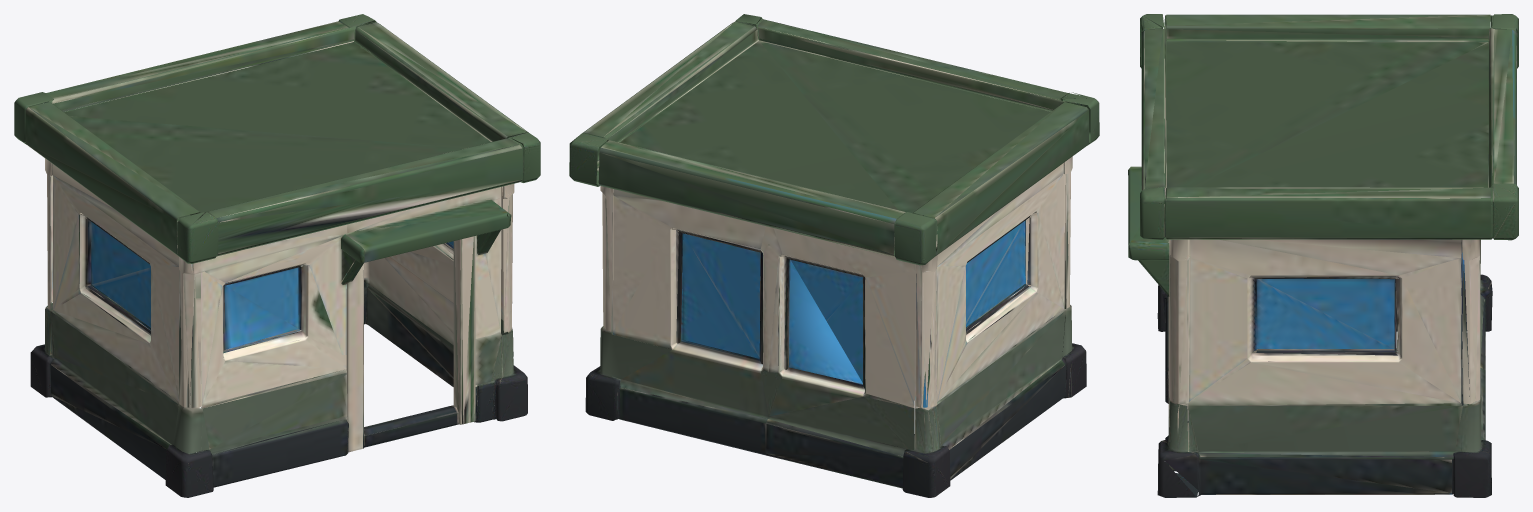
File: grenade-guardhouse-fractured-low.glb
3 views of the same model, side by side, from view 1: azimuth 30°, elevation 25°; view 2: azimuth 150°, elevation 25°; view 3: azimuth 270°, elevation 25° (orthographic). The views are drawn at different scales.
Parts seen in each view (by area): view 1: chunk_017, chunk_024, chunk_005, chunk_007, chunk_026, chunk_001, chunk_002, chunk_014, chunk_004, chunk_028, chunk_029, chunk_011 (+11 smaller); view 2: chunk_024, chunk_017, chunk_003, chunk_007, chunk_015, chunk_012, chunk_001, chunk_030, chunk_018, chunk_009, chunk_021, chunk_004 (+9 smaller); view 3: chunk_017, chunk_034, chunk_024, chunk_028, chunk_031, chunk_032, chunk_030, chunk_007, chunk_035, chunk_029, chunk_027, chunk_026 (+6 smaller).
Boxes of the visible parts, <box> form: chunk_017: <box>70,116,521,284</box>; chunk_024: <box>50,21,490,148</box>; chunk_005: <box>149,264,346,407</box>; chunk_007: <box>25,102,201,266</box>; chunk_026: <box>213,138,522,262</box>; chunk_001: <box>50,310,178,479</box>; chunk_002: <box>165,373,346,497</box>; chunk_014: <box>224,239,363,421</box>; chunk_004: <box>53,222,178,401</box>; chunk_028: <box>367,256,507,402</box>; chunk_029: <box>453,236,527,424</box>; chunk_011: <box>207,282,349,483</box>; chunk_024: <box>598,41,897,254</box>; chunk_017: <box>759,21,1069,212</box>; chunk_003: <box>863,264,967,407</box>; chunk_007: <box>894,102,1088,266</box>; chunk_015: <box>602,141,914,276</box>; chunk_012: <box>763,244,862,384</box>; chunk_001: <box>927,309,1065,480</box>; chunk_030: <box>602,189,679,345</box>; chunk_018: <box>621,340,768,455</box>; chunk_009: <box>761,367,906,485</box>; chunk_021: <box>679,232,763,368</box>; chunk_004: <box>936,221,1063,401</box>; chunk_017: <box>1141,28,1487,187</box>; chunk_034: <box>1166,187,1490,279</box>; chunk_024: <box>1192,31,1516,243</box>; chunk_028: <box>1188,402,1462,494</box>; chunk_031: <box>1189,279,1460,403</box>; chunk_032: <box>1138,256,1257,408</box>; chunk_030: <box>1394,256,1480,404</box>; chunk_007: <box>1166,14,1490,42</box>; chunk_035: <box>1128,180,1254,293</box>; chunk_029: <box>1157,299,1201,497</box>; chunk_027: <box>1452,370,1491,497</box>; chunk_026: <box>1128,31,1166,246</box>.
Size of the model in its own units: 0.9487 by 0.7178 by 0.8423.
1 material, 1 textured.
